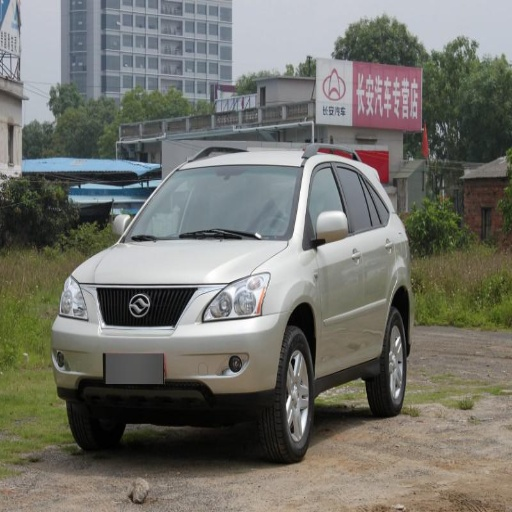back_glass: (333, 160, 393, 357)
back_right_light: (52, 283, 287, 408)
front_bumper: (123, 169, 301, 241)
front_glass: (306, 160, 361, 373)
front_left_door: (201, 270, 270, 321)
front_right_door: (59, 275, 89, 319)
front_right_light: (76, 242, 287, 282)
trunk: (262, 326, 313, 463), (367, 304, 406, 416), (67, 398, 126, 451)
